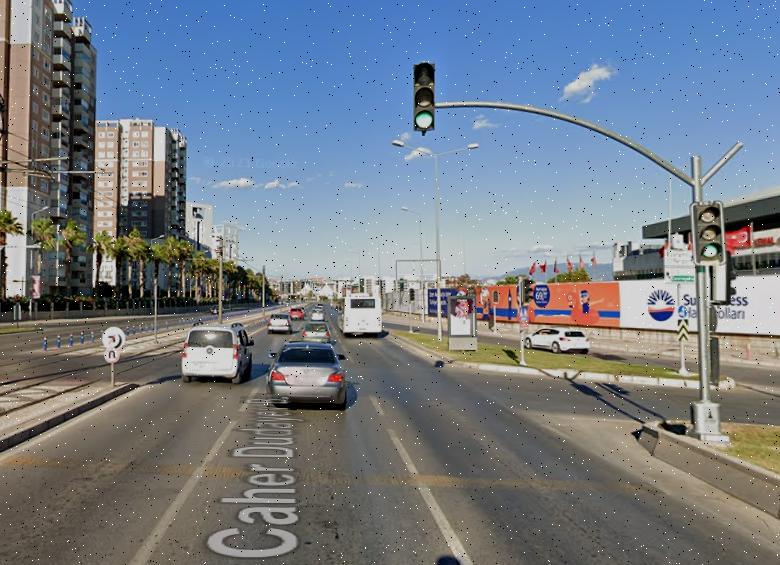greenlight: (691, 199, 726, 264), (414, 62, 435, 132)
